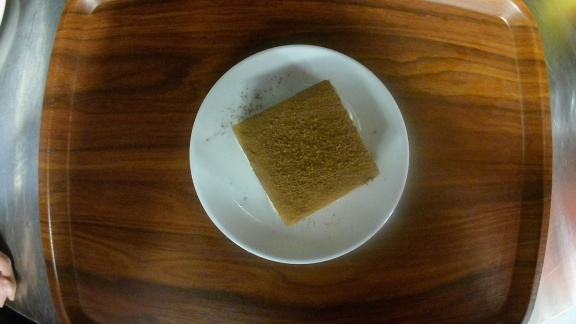tiramisu: (189, 44, 411, 263)
